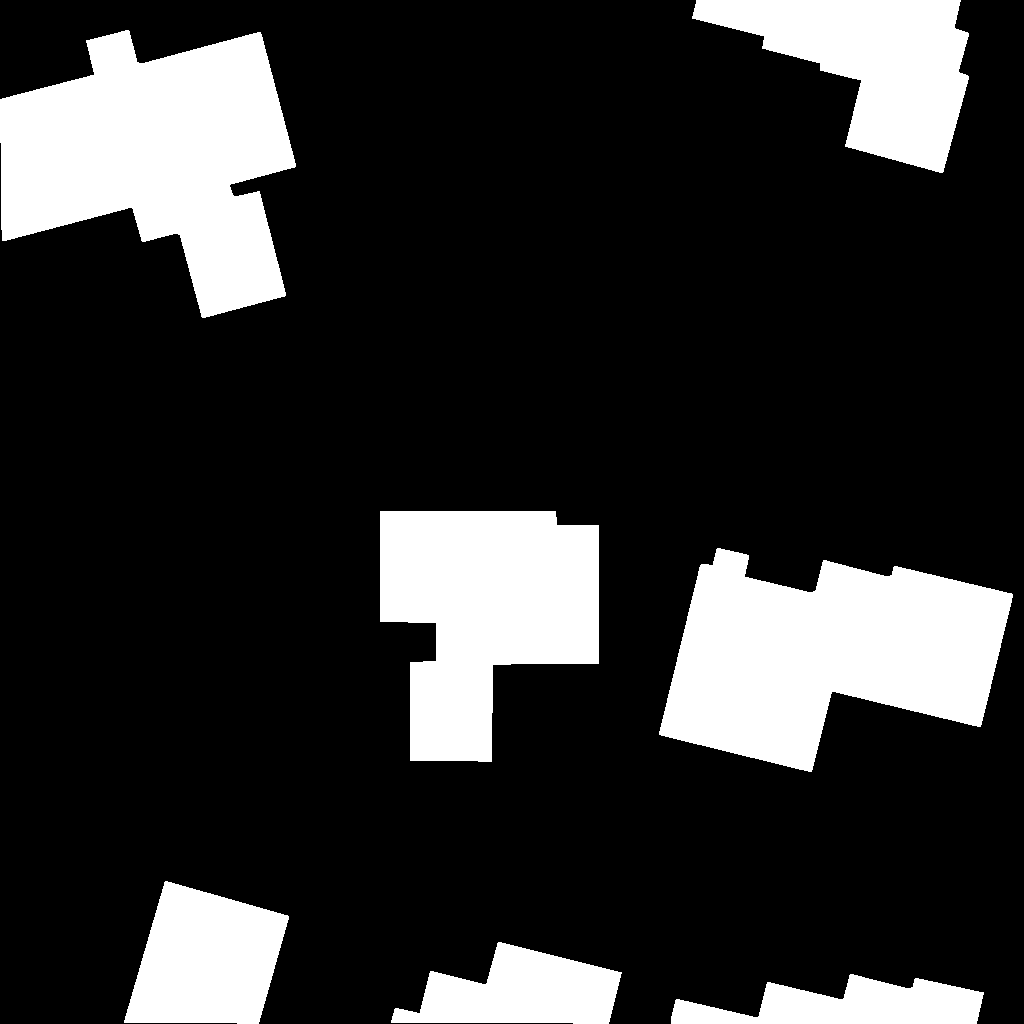building: (0, 30, 297, 319), (659, 548, 1014, 773), (380, 511, 599, 762), (692, 0, 970, 174), (124, 881, 290, 1024), (391, 942, 623, 1024), (671, 974, 985, 1024)
